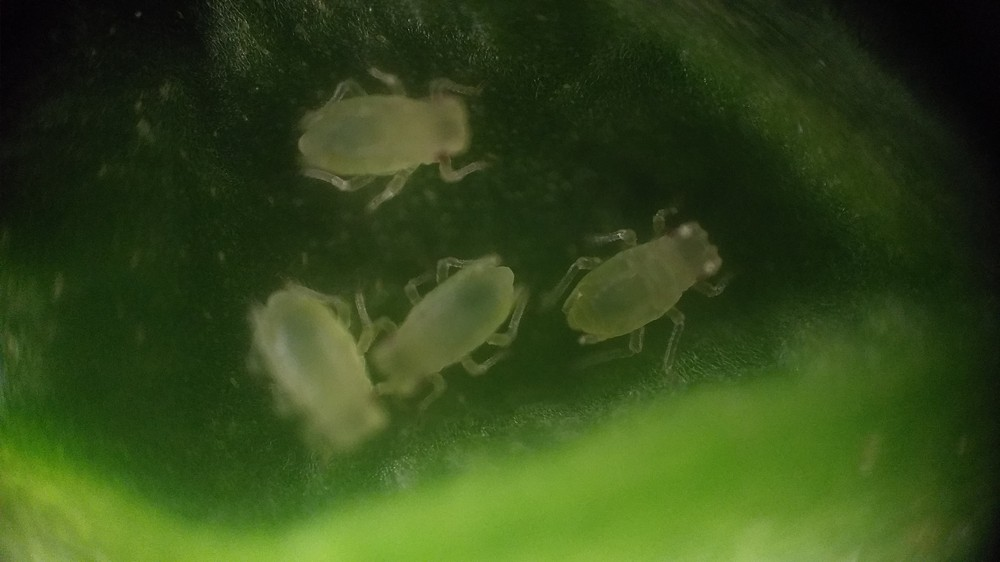Pulgon: (544, 180, 762, 378), (282, 54, 499, 213), (356, 241, 534, 429), (230, 272, 409, 456)
